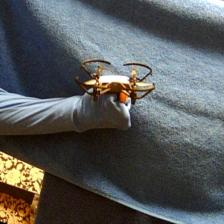drone: (76, 58, 158, 105)
